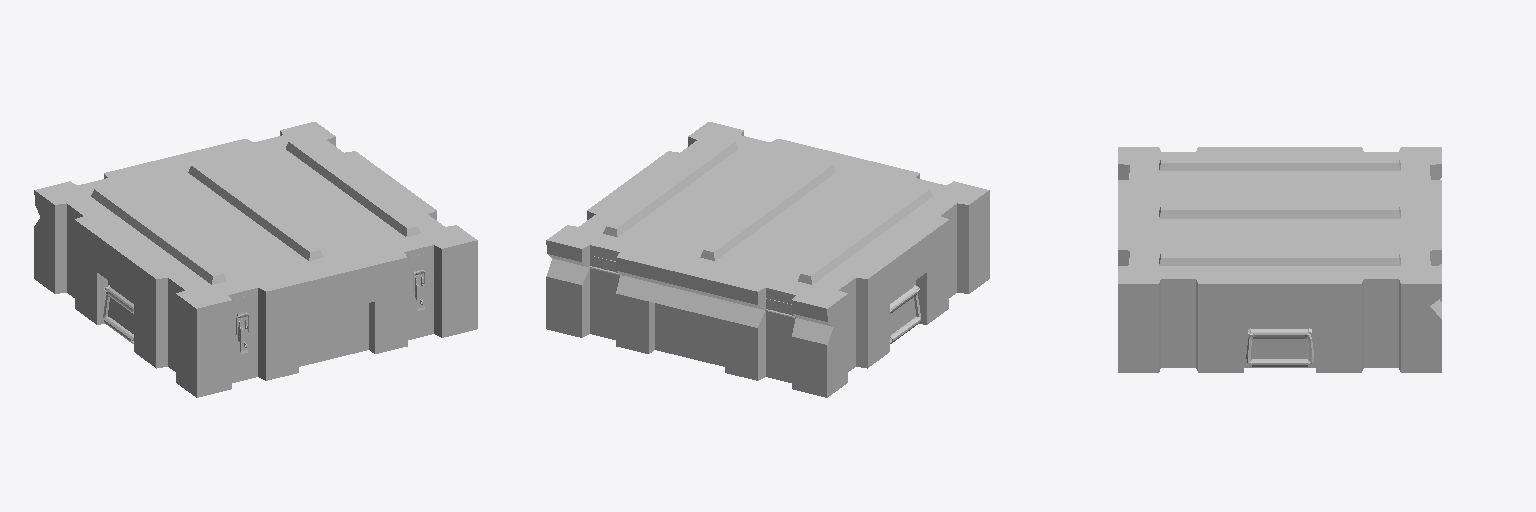
File: military case.obj
The picture shows the model from 3 angles: view 1: azimuth 30°, elevation 25°; view 2: azimuth 150°, elevation 25°; view 3: azimuth 270°, elevation 25°; orthographic projection.
Visible parts, largest first — view 1: fullbody_Cube.024; view 2: fullbody_Cube.024; view 3: fullbody_Cube.024.
Part boxes in pixels (bbox=[...]): fullbody_Cube.024: bbox=[34, 122, 477, 397]; fullbody_Cube.024: bbox=[546, 122, 989, 397]; fullbody_Cube.024: bbox=[1118, 147, 1441, 372].
Size of the model in its own units: 4.06 by 1.33 by 4.06.